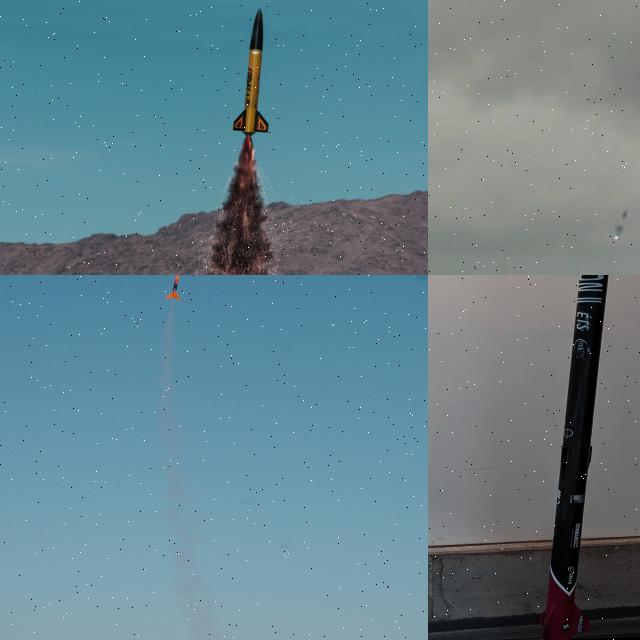Rocket: (539, 275, 609, 640), (232, 7, 270, 136), (611, 209, 630, 236), (166, 275, 181, 301)
